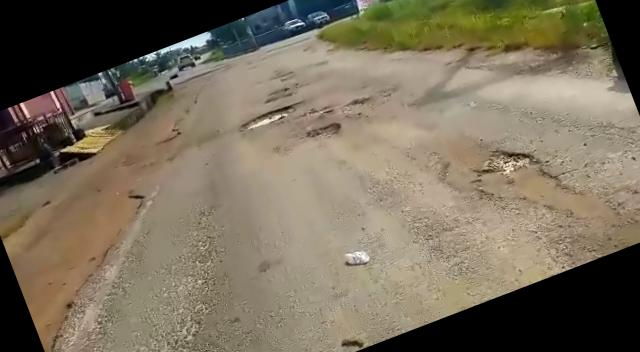pothole: (464, 117, 608, 250), (236, 98, 298, 135), (298, 116, 344, 144)
